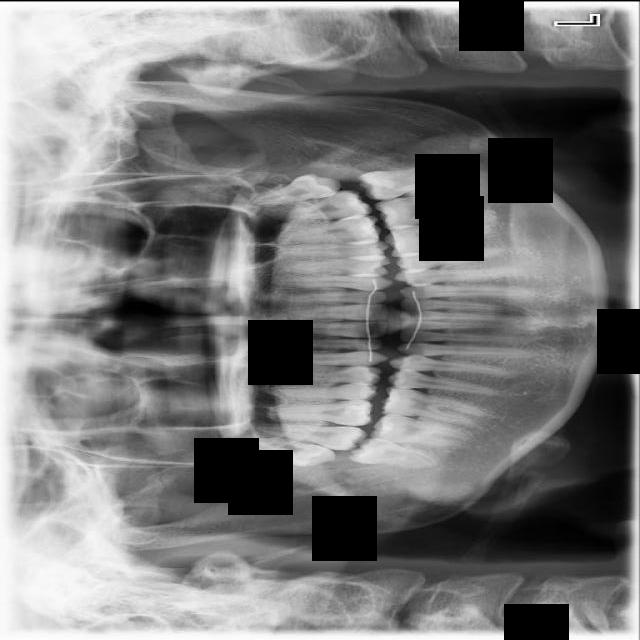3M ESPE Implant: (241, 432, 338, 472)
73: (580, 44, 594, 52)
BioHorizons Implant: (268, 189, 373, 220)
BioLife Implant: (248, 168, 343, 210)
Biomet 3i Implant: (356, 161, 453, 203)
Blue Sky Bio Implant: (374, 186, 477, 232)
Caries: (256, 423, 368, 450)
Implant: (369, 411, 474, 449)
Keystone Dental Implant: (348, 434, 441, 471)
